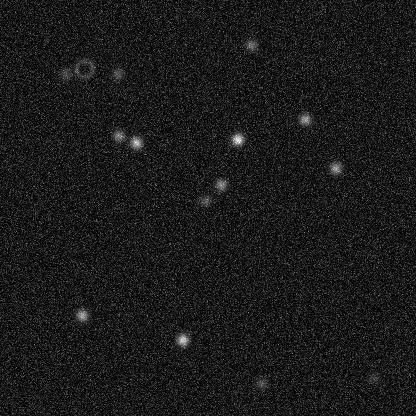Ring: (72, 56, 96, 80)
Spot: (243, 37, 259, 53), (253, 375, 269, 391), (212, 176, 228, 192), (128, 134, 144, 150), (365, 369, 381, 385), (296, 111, 312, 127), (327, 160, 343, 176), (74, 307, 90, 323), (110, 127, 126, 143), (197, 192, 213, 208), (109, 65, 125, 81), (57, 66, 73, 82), (174, 331, 190, 347), (229, 131, 245, 147)
